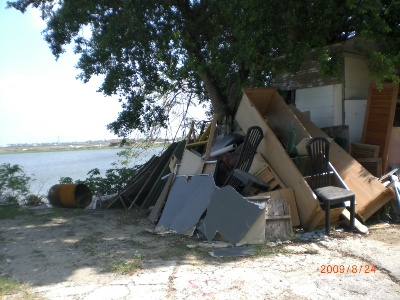box: (235, 87, 355, 228)
bucket: (48, 183, 93, 208)
